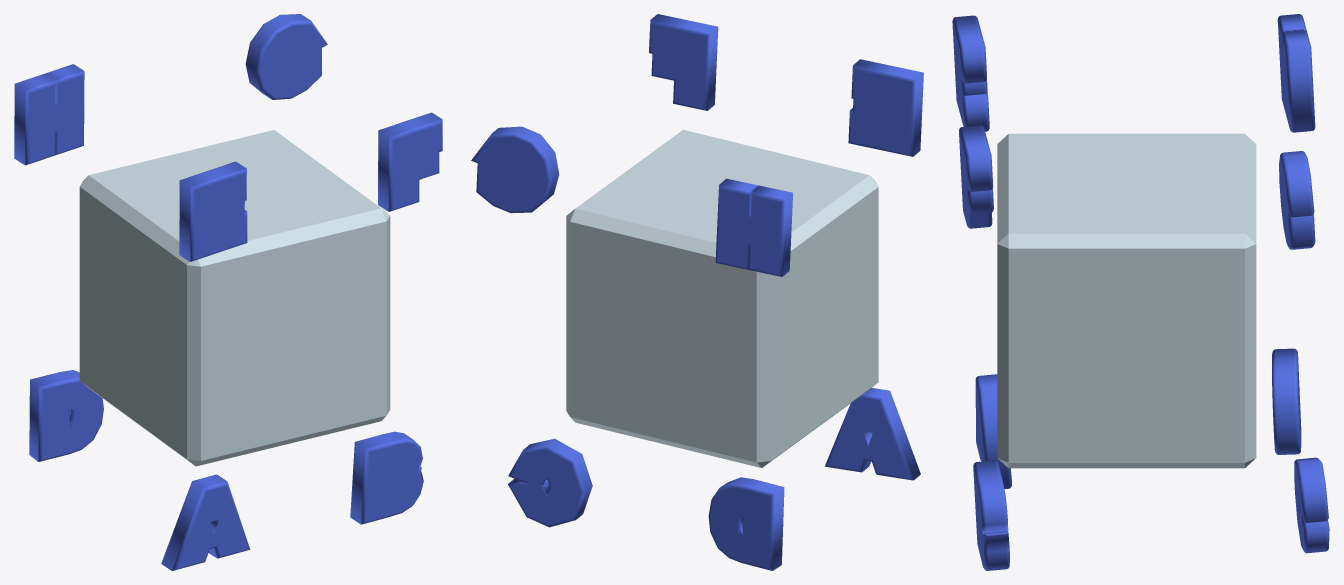
The model's file is kubustr.glb.
3 views of the same model, side by side, from view 1: azimuth 30°, elevation 25°; view 2: azimuth 150°, elevation 25°; view 3: azimuth 270°, elevation 25° (orthographic). The views are drawn at different scales.
Visible parts, largest first — view 1: Cube, Text.007, Text.004, Text.001, Text.003, Text.006, Text.009, Text.005; view 2: Cube, Text.007, Text.004, Text.006, Text.003, Text.009, Text.002, Text.005; view 3: Cube, Text.007, Text.004, Text.001, Text.005, Text.006, Text.003, Text.002, Text.009.
Boxes of the visible parts, <box> form: Cube: <box>79,130,390,466</box>; Text.007: <box>14,64,84,165</box>; Text.004: <box>179,161,247,261</box>; Text.001: <box>350,431,423,524</box>; Text.003: <box>29,370,103,461</box>; Text.006: <box>245,14,327,99</box>; Text.009: <box>161,474,249,570</box>; Text.005: <box>378,112,442,211</box>; Cube: <box>566,129,878,467</box>; Text.007: <box>715,178,792,276</box>; Text.004: <box>848,59,923,156</box>; Text.006: <box>471,126,559,213</box>; Text.003: <box>708,477,784,570</box>; Text.009: <box>824,388,920,480</box>; Text.002: <box>508,438,592,527</box>; Text.005: <box>649,14,718,110</box>; Cube: <box>997,133,1256,468</box>; Text.007: <box>1277,14,1315,132</box>; Text.004: <box>952,15,989,131</box>; Text.001: <box>973,460,1009,570</box>; Text.005: <box>959,125,993,228</box>; Text.006: <box>1279,151,1315,249</box>; Text.003: <box>1272,348,1301,454</box>; Text.002: <box>1294,457,1329,553</box>; Text.009: <box>975,374,1011,488</box>.
Size of the model in its own units: 3.04 by 3.71 by 2.91.
